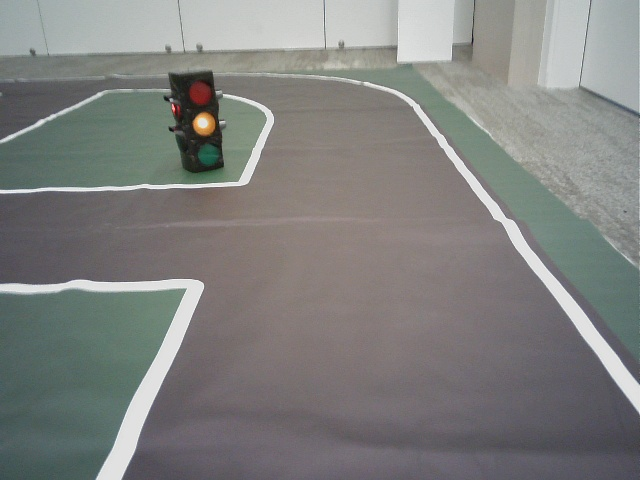yellow: (183, 75, 221, 168)
